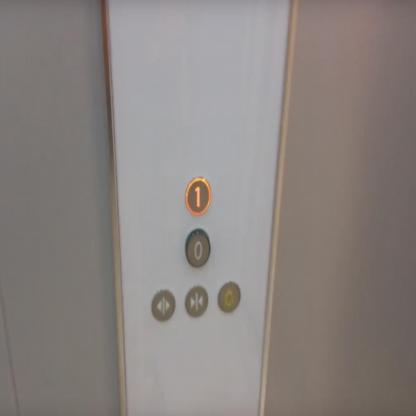0: (182, 225, 212, 270)
1: (184, 174, 213, 218)
alarm: (214, 276, 242, 316)
close: (183, 280, 210, 321)
open: (150, 285, 176, 325)
